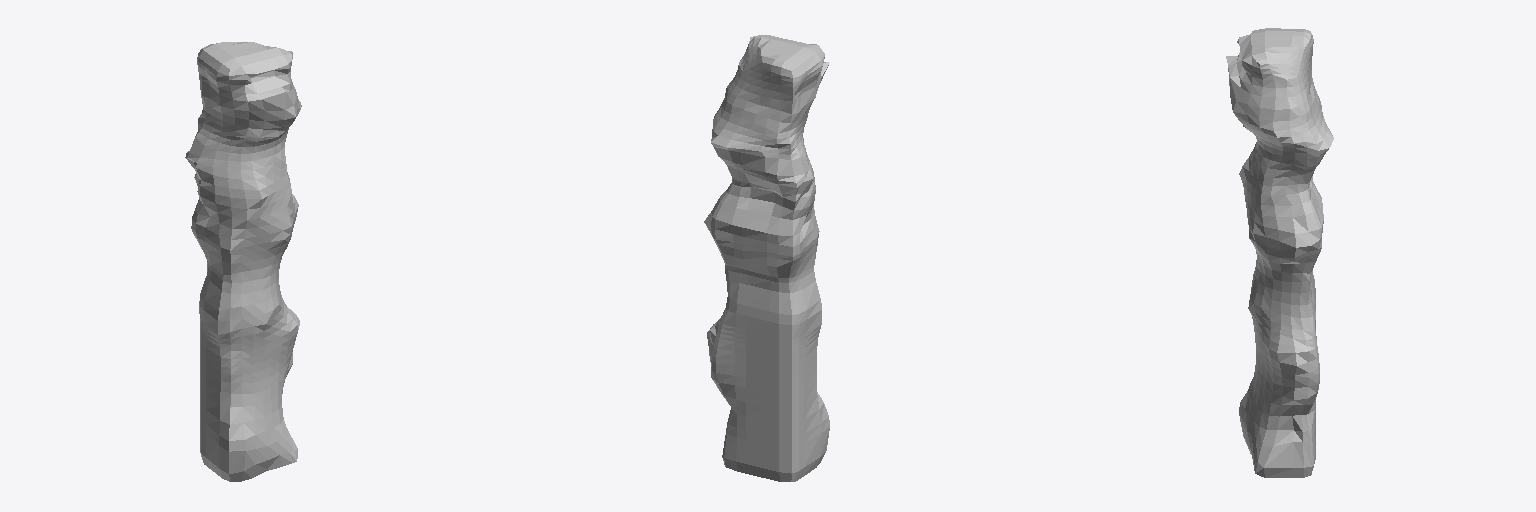
The model's file is env_level1_Canyon_Rock15.obj.
3 renders of one model, left to right at view 1: azimuth 30°, elevation 25°; view 2: azimuth 150°, elevation 25°; view 3: azimuth 270°, elevation 25°, orthographic.
Visible parts, largest first — view 1: rockwall_b07; view 2: rockwall_b07; view 3: rockwall_b07.
Boxes of the visible parts, x1,y1,x2,y2 form: rockwall_b07: [185, 42, 301, 481]; rockwall_b07: [704, 35, 829, 481]; rockwall_b07: [1226, 28, 1333, 477].
Bounding box in the file's own units: 1904 × 7234 × 1691.